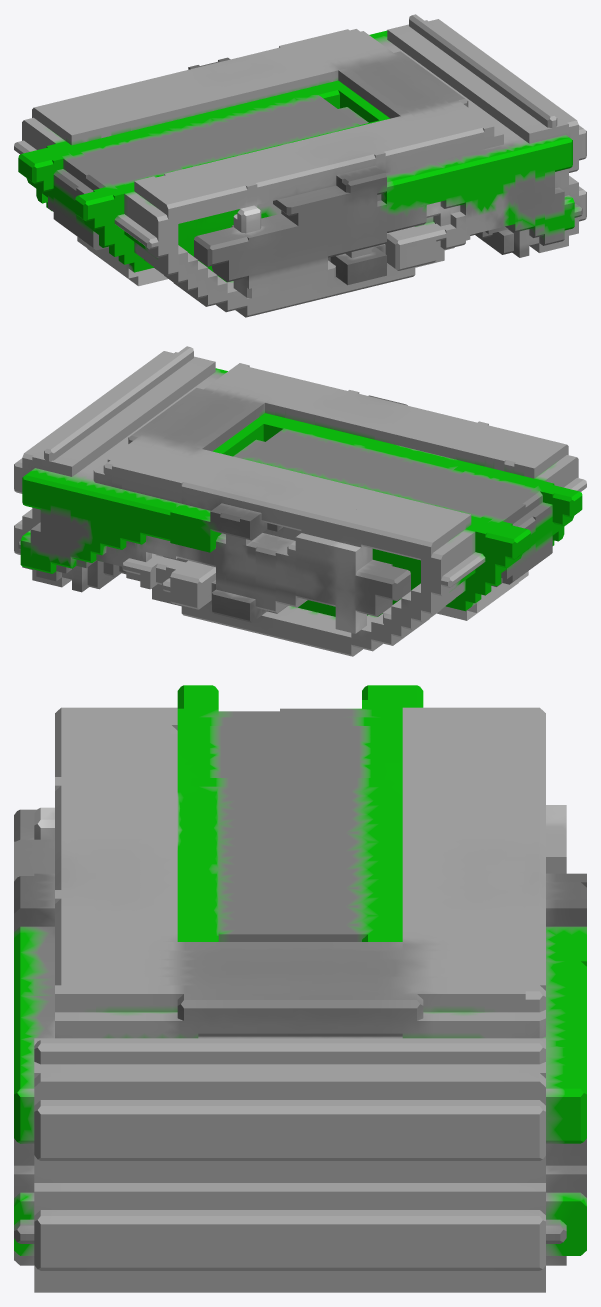
Rendered from devils-tongue.glb.
3 renders of one model, top to bottom at view 1: azimuth 30°, elevation 25°; view 2: azimuth 150°, elevation 25°; view 3: azimuth 270°, elevation 25°, orthographic. The views are drawn at different scales.
Parts seen in each view (by area): view 1: hull_dummy01; view 2: hull_dummy01; view 3: hull_dummy01.
Part boxes in pixels (left/top/right/bottom): hull_dummy01: left=14, top=14, right=586, bottom=317; hull_dummy01: left=14, top=346, right=586, bottom=656; hull_dummy01: left=14, top=685, right=586, bottom=1292.
Bounding box in the file's own units: 1.51 × 0.4099 × 0.8945.
